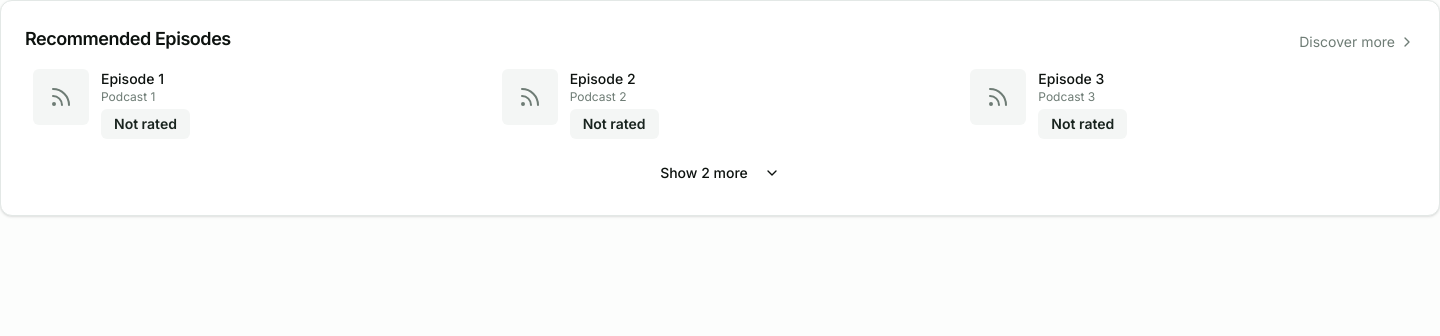
Test: EpisodeRecommendations › toggle button reports aria-expanded state accurately through expand/collapse
Click the button "Show 2 more": (720, 173) [25, 155, 1415, 191]
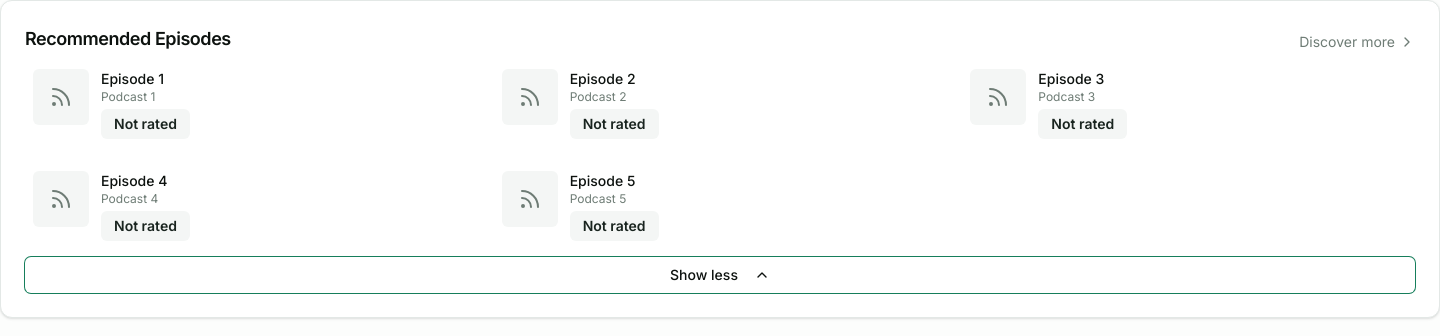
Expected: the button "Show less" is expanded, [25, 257, 1415, 293]
